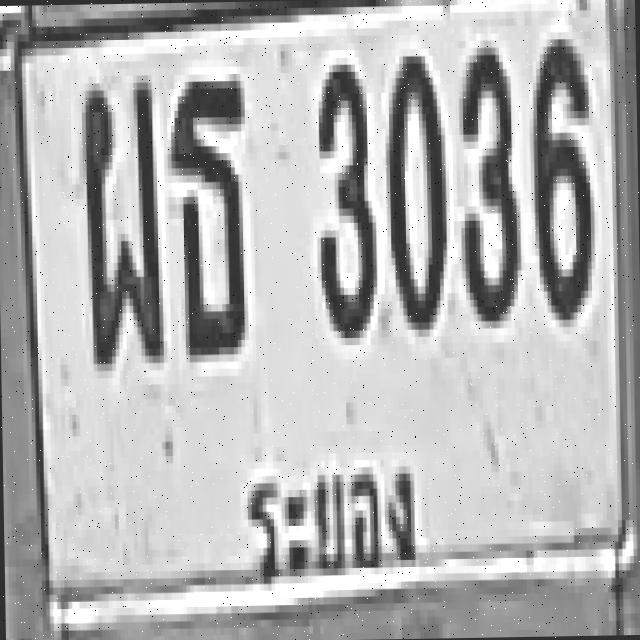0: (384, 49, 444, 322)
3: (454, 40, 518, 321), (314, 57, 374, 330)
33ThorThong: (166, 73, 244, 355)
37PhorPhueng: (76, 74, 160, 363)
6: (528, 32, 592, 320)
Rayong: (235, 442, 423, 591)
